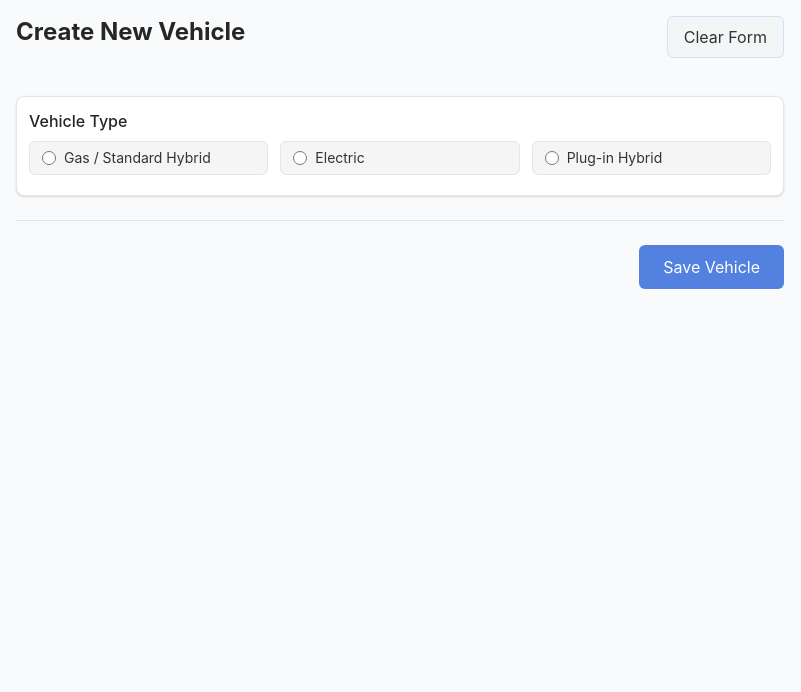
Test: VehicleCreationOrEditForm › updates form section visibility when vehicle type changes
This screenshot has width=801, height=692.
Note: Select electric vehicle
Click the radio button labelled "Electric". click: (300, 158)
box: [293,151,307,165]
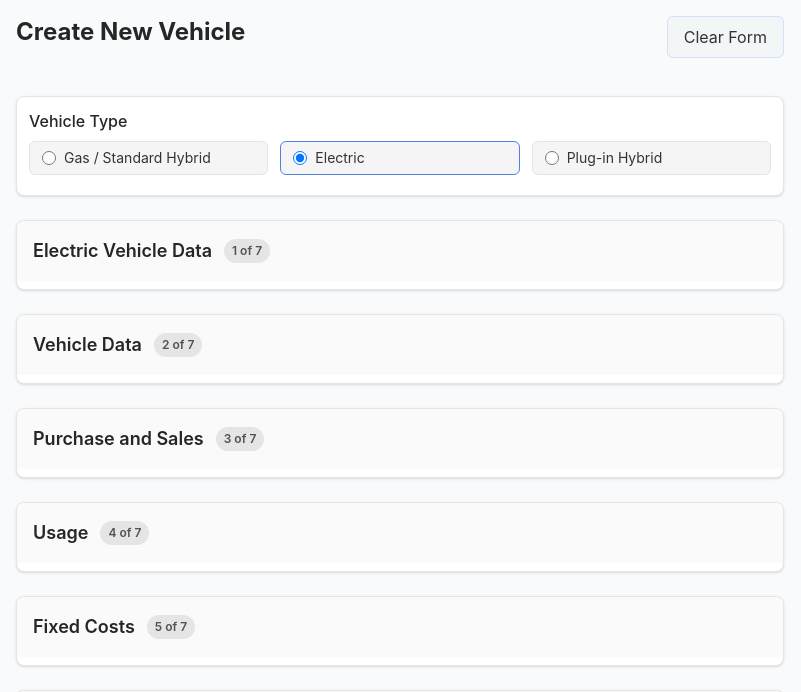
Expected: the text "Electric Vehicle Data" is shown, [33,237,212,265]
